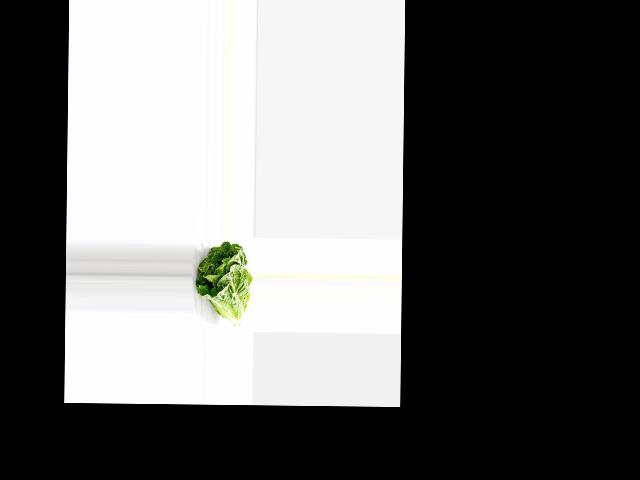lettuce: (194, 242, 253, 324)
